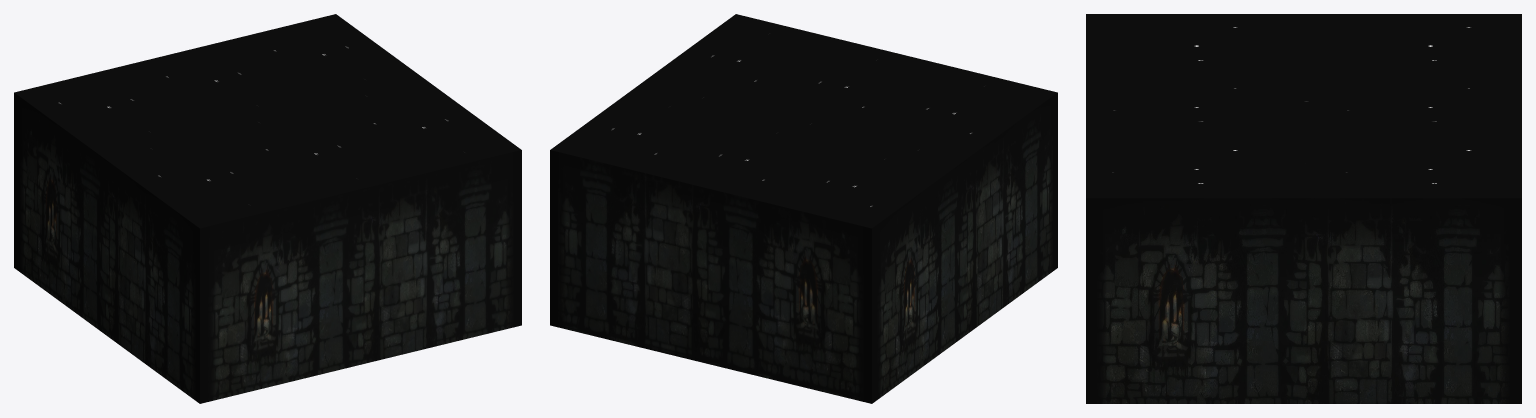
Rendered from salle_1.obj.
The picture shows the model from 3 angles, left to right: view 1: azimuth 30°, elevation 25°; view 2: azimuth 150°, elevation 25°; view 3: azimuth 270°, elevation 25°; orthographic projection. The views are drawn at different scales.
Parts seen in each view (by area): view 1: pCube1, pPlane2; view 2: pPlane2, pPlane3, pCube1; view 3: pCube1, pPlane2.
Part boxes in pixels (<box>): pCube1: <box>14,92,521,403</box>; pPlane2: <box>14,14,521,228</box>; pPlane2: <box>550,14,1057,228</box>; pPlane3: <box>550,150,871,403</box>; pCube1: <box>872,92,1057,403</box>; pCube1: <box>1086,198,1521,403</box>; pPlane2: <box>1086,14,1521,198</box>.
Bounding box in the file's own units: 96 × 50.29 × 96.
Materials: 6 (6 with a texture image).
